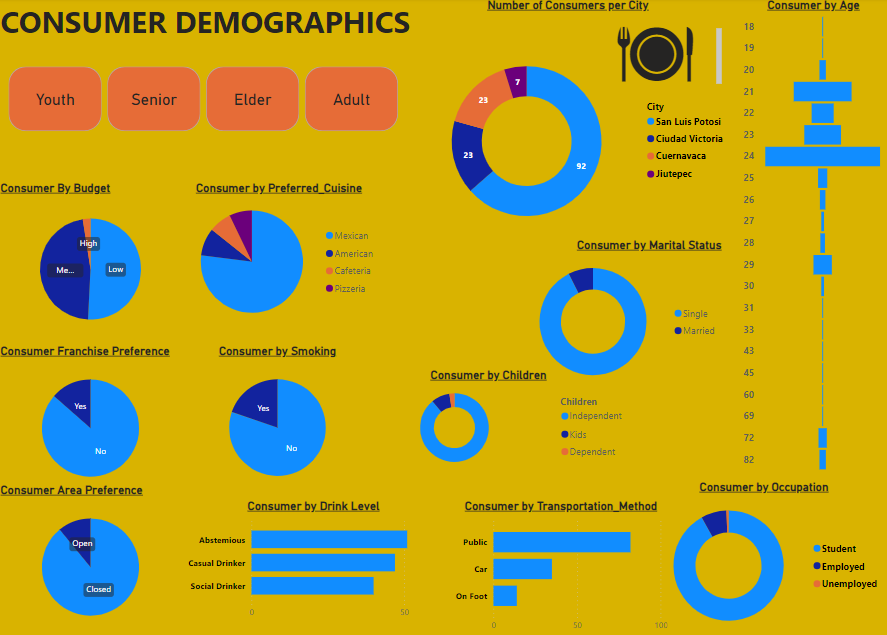

Layout of this report page (visuals, bound fields, positions):
{"tool":"powerbi","page":{"name":"Page 2","canvas":[1280,920],"ordinal":1},"visuals":[{"type":"donutChart","title":"Number of Consumers per City","fields":{"Category":["restaurants.City"],"Y":["Count(consumers.Consumer_ID)"]},"box":[583.6,0,474.4,392.4],"z":0},{"type":"textbox","box":[0,0,618.1,93.4],"z":1000},{"type":"funnel","title":"Consumer by Age","fields":{"Category":["consumers.Age"],"Y":["CountNonNull(consumer_preferences.Consumer_ID)"]},"box":[1068.1,0,211.3,685.7],"z":2000},{"type":"donutChart","title":"Consumer by Marital Status","fields":{"Category":["consumers.Marital_Status"],"Y":["CountNonNull(consumers.Consumer_ID)"]},"box":[736,345,310.5,221.4],"z":3000},{"type":"donutChart","title":"Consumer by Children","fields":{"Category":["consumers.Children"],"Y":["CountNonNull(consumers.Consumer_ID)"]},"box":[500.2,531.9,412.6,152.4],"z":4000},{"type":"pieChart","title":"Consumer By Budget","fields":{"Category":["consumers.Budget"],"Y":["CountNonNull(consumer_preferences.Consumer_ID)"]},"box":[0,263.1,268.8,234.3],"z":5000},{"type":"barChart","title":"Consumer by Transportation_Method","fields":{"Y":["CountNonNull(consumers.Consumer_ID)"],"Category":["consumers.Transportation_Method"]},"box":[652.6,720.2,316.2,199.8],"z":6000},{"type":"donutChart","title":"Consumer by Occupation","fields":{"Category":["consumers.Occupation"],"Y":["CountNonNull(consumer_preferences.Consumer_ID)"]},"box":[925.8,692.9,353.6,227.1],"z":7000},{"type":"pieChart","title":" Consumer by Smoking","fields":{"Y":["CountNonNull(ratings.Consumer_ID)"],"Category":["consumers.Smoker"]},"box":[268.8,497.4,268.8,221.4],"z":8000},{"type":"barChart","title":"Consumer by Drink Level","fields":{"Category":["consumers.Drink_Level"],"Y":["Count(consumer_preferences.Consumer_ID)"]},"box":[268.8,720.2,372.3,181.1],"z":9000},{"type":"pieChart","title":"Consumer Franchise Preference","fields":{"Category":["restaurants.Franchise"],"Y":["CountNonNull(ratings.Consumer_ID)"]},"box":[0,497.4,268.8,222.8],"z":10000},{"type":"pieChart","title":"Consumer Area Preference","fields":{"Category":["restaurants.Area"],"Y":["CountNonNull(ratings.Consumer_ID)"]},"box":[0,697.2,268.8,222.8],"z":11000},{"type":"advancedSlicerVisual","fields":{"Values":["consumers.Age Groups"]},"box":[11.5,93.4,572.1,103.5],"z":12000},{"type":"textbox","box":[853.9,14.4,192.6,138],"z":13000},{"type":"pieChart","title":"Consumer by Preferred_Cuisine","fields":{"Category":["consumer_preferences.Preferred_Cuisine"],"Y":["CountNonNull(consumer_preferences.Consumer_ID)"]},"box":[255.9,263.1,299,212.8],"z":14000}]}

Visuals, with their boxes in screenshot pixels (x1, y1, x2, y2), scaled from the page's 1280x920 canvas onto the 887x635 screenshot:
"Number of Consumers per City" donutChart: box(404, 0, 733, 271)
textbox: box(0, 0, 428, 64)
"Consumer by Age" funnel: box(740, 0, 886, 473)
"Consumer by Marital Status" donutChart: box(510, 238, 725, 391)
"Consumer by Children" donutChart: box(347, 367, 633, 472)
"Consumer By Budget" pieChart: box(0, 182, 186, 343)
"Consumer by Transportation_Method" barChart: box(452, 497, 671, 634)
"Consumer by Occupation" donutChart: box(642, 478, 886, 634)
" Consumer by Smoking" pieChart: box(186, 343, 373, 496)
"Consumer by Drink Level" barChart: box(186, 497, 444, 622)
"Consumer Franchise Preference" pieChart: box(0, 343, 186, 497)
"Consumer Area Preference" pieChart: box(0, 481, 186, 634)
advancedSlicerVisual - consumers.Age Groups: box(8, 64, 404, 136)
textbox: box(592, 10, 725, 105)
"Consumer by Preferred_Cuisine" pieChart: box(177, 182, 385, 328)
